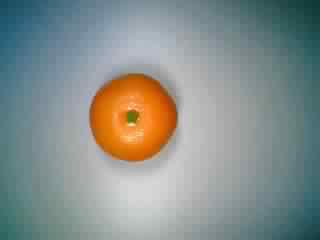orange: (82, 67, 178, 163)
